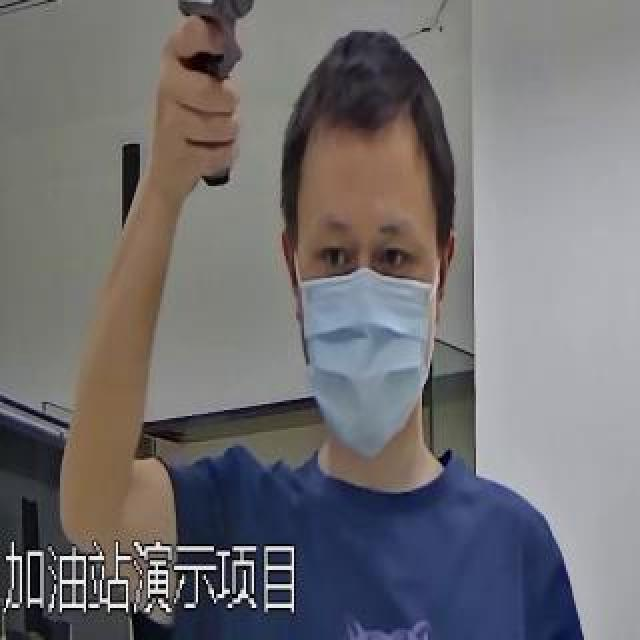Guns: (144, 0, 274, 202)
